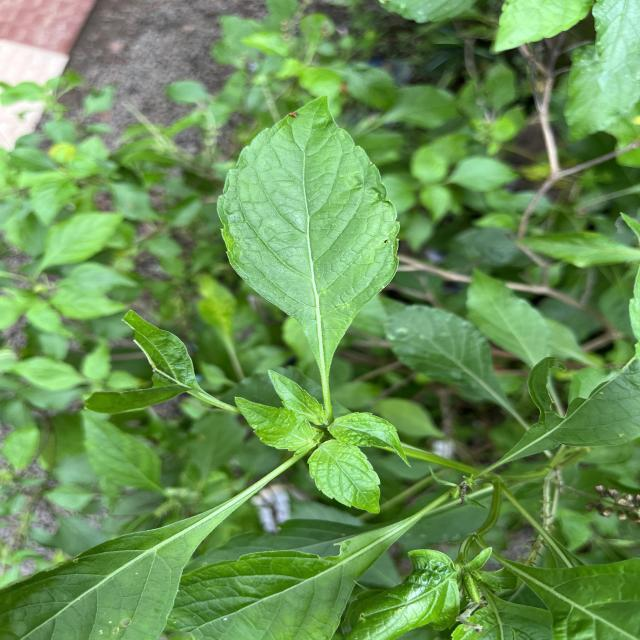Ocimum gratissimum: (212, 92, 403, 378)
